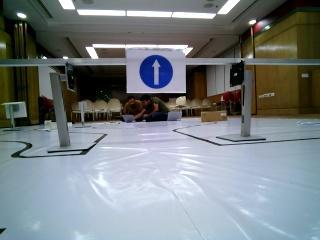straight: (125, 47, 188, 95)
